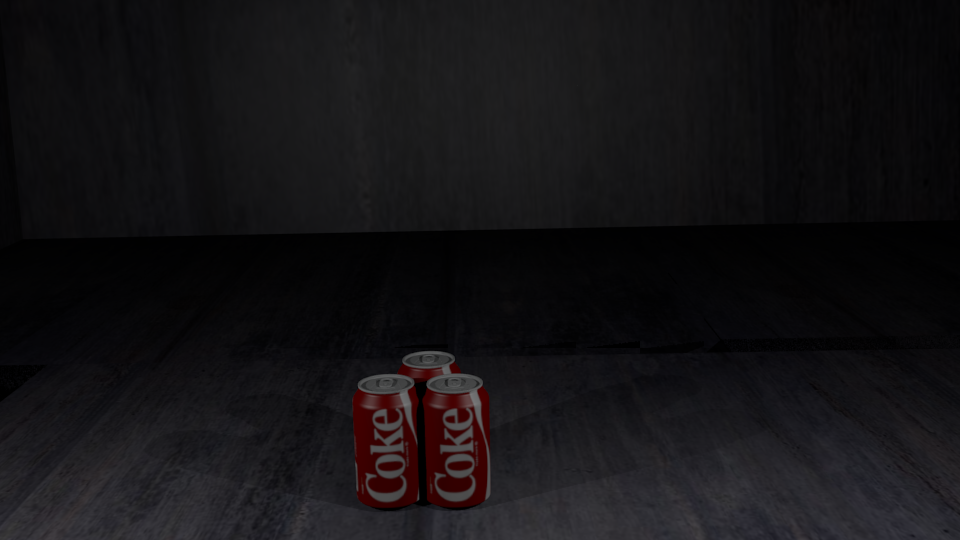cola_can: (353, 374, 422, 504), (421, 374, 489, 503), (398, 351, 460, 473)
